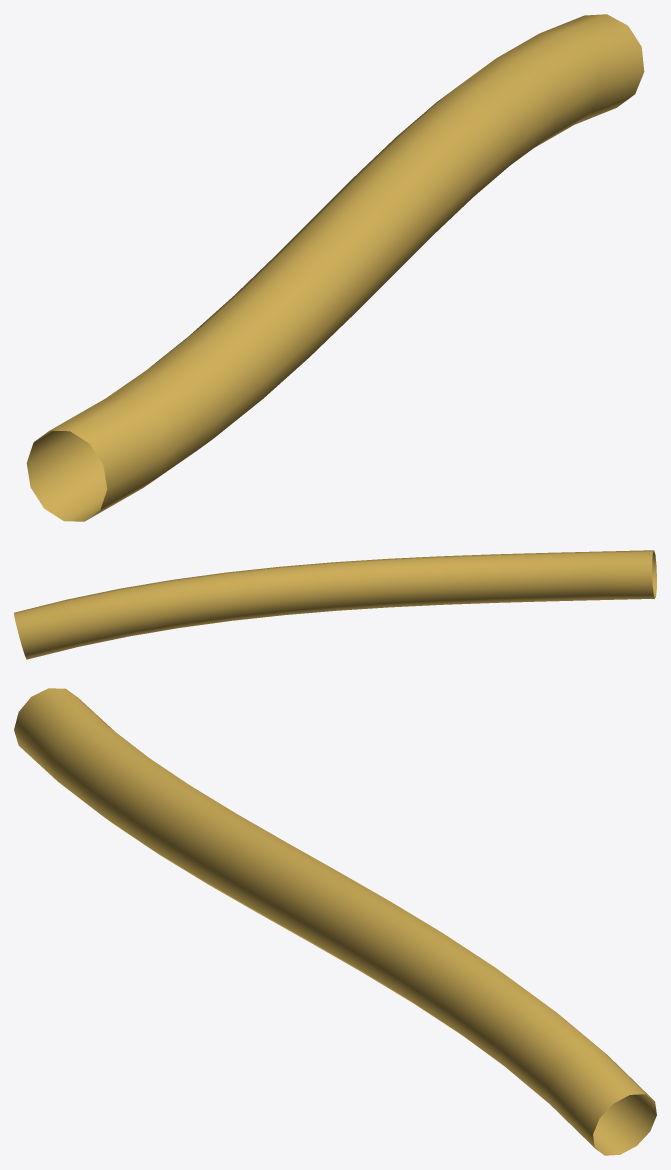
3 renders of one model, top to bottom at view 1: azimuth 30°, elevation 25°; view 2: azimuth 150°, elevation 25°; view 3: azimuth 270°, elevation 25°, orthographic. The views are drawn at different scales.
Parts seen in each view (by area): view 1: 左侧臂丛中干; view 2: 左侧臂丛中干; view 3: 左侧臂丛中干.
Boxes of the visible parts, <box> form: 左侧臂丛中干: <box>26,14,644,521</box>; 左侧臂丛中干: <box>14,550,656,659</box>; 左侧臂丛中干: <box>14,688,656,1155</box>.
Size of the model in its own units: 0.0492 by 0.00804 by 0.037.
